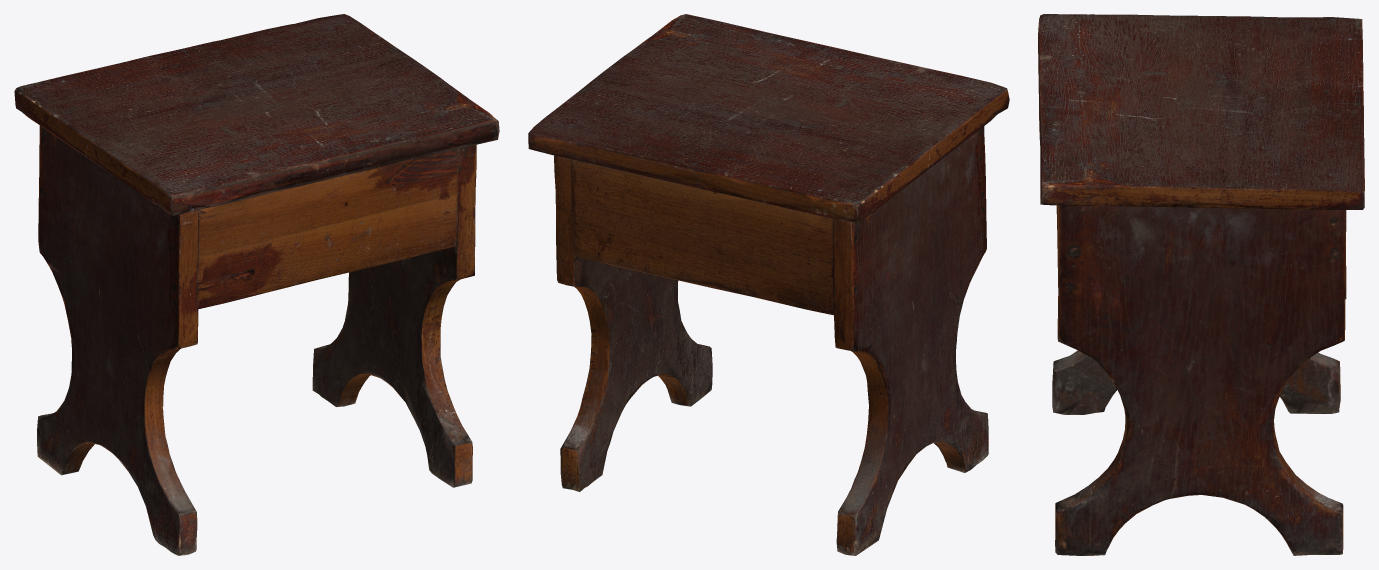
File: ukopadbaw_LOD3.fbx
3 views of the same model, side by side, from view 1: azimuth 30°, elevation 25°; view 2: azimuth 150°, elevation 25°; view 3: azimuth 270°, elevation 25° (orthographic). The views are drawn at different scales.
Visible parts, largest first — view 1: Aset_interior_furniture_S_ukopadbaw_LOD3; view 2: Aset_interior_furniture_S_ukopadbaw_LOD3; view 3: Aset_interior_furniture_S_ukopadbaw_LOD3.
Part boxes in pixels (<box>): Aset_interior_furniture_S_ukopadbaw_LOD3: <box>14,14,499,555</box>; Aset_interior_furniture_S_ukopadbaw_LOD3: <box>528,14,1009,555</box>; Aset_interior_furniture_S_ukopadbaw_LOD3: <box>1038,14,1364,555</box>.
Bounding box in the file's own units: 31.23 × 33.31 × 25.49.
